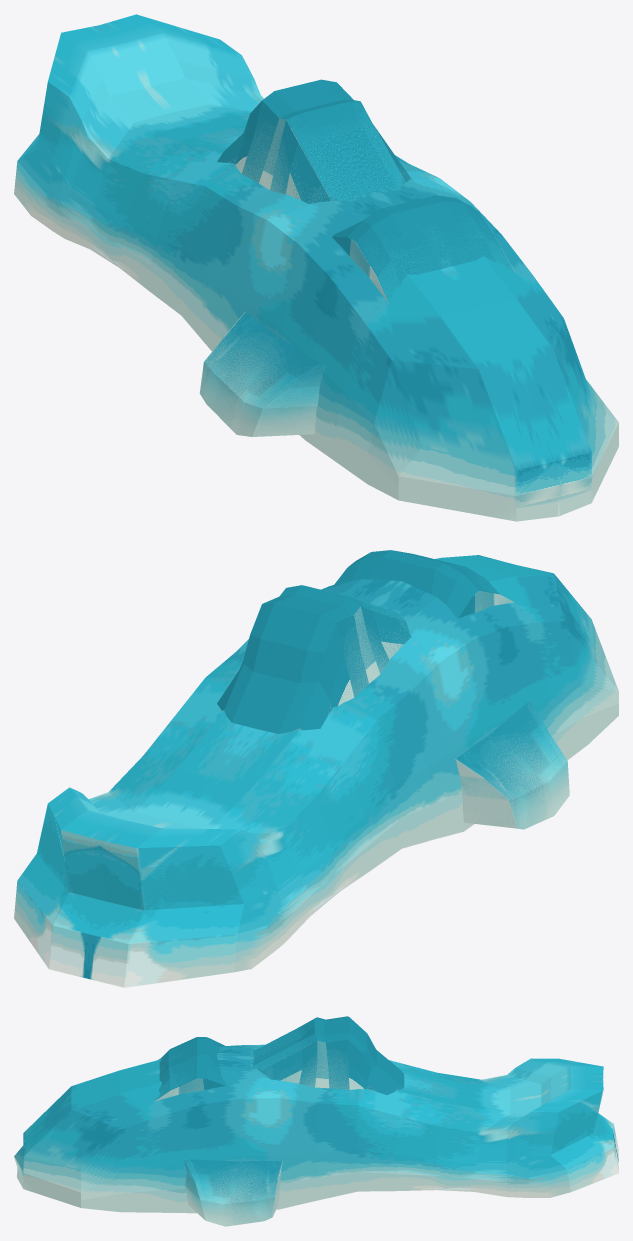
File: shark-gummies.glb
3 renders of one model, top to bottom at view 1: azimuth 30°, elevation 25°; view 2: azimuth 150°, elevation 25°; view 3: azimuth 270°, elevation 25°, orthographic. The views are drawn at different scales.
Visible parts, largest first — view 1: Cube, Cube.001; view 2: Cube, Cube.001; view 3: Cube, Cube.001.
Part boxes in pixels (x1,y1,x2,y2): Cube: (14, 14, 618, 521); Cube.001: (199, 79, 514, 436); Cube: (14, 555, 618, 987); Cube.001: (217, 550, 569, 829); Cube: (14, 1044, 618, 1213); Cube.001: (154, 1016, 404, 1226).
Size of the model in its own units: 2.7 by 2.03 by 6.99.
2 materials, 2 textured.
